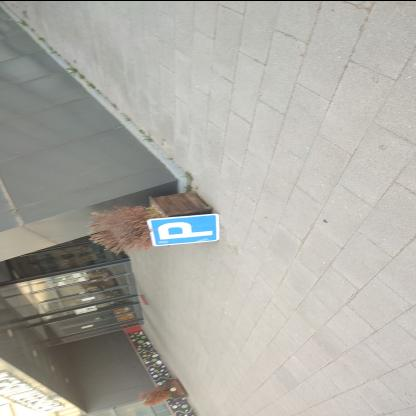Parking-Sign: (146, 212, 221, 246)
